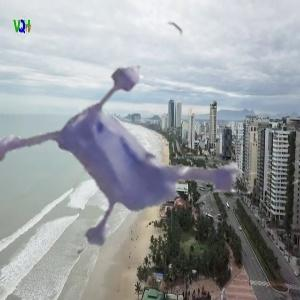drone: (15, 14, 291, 290)
